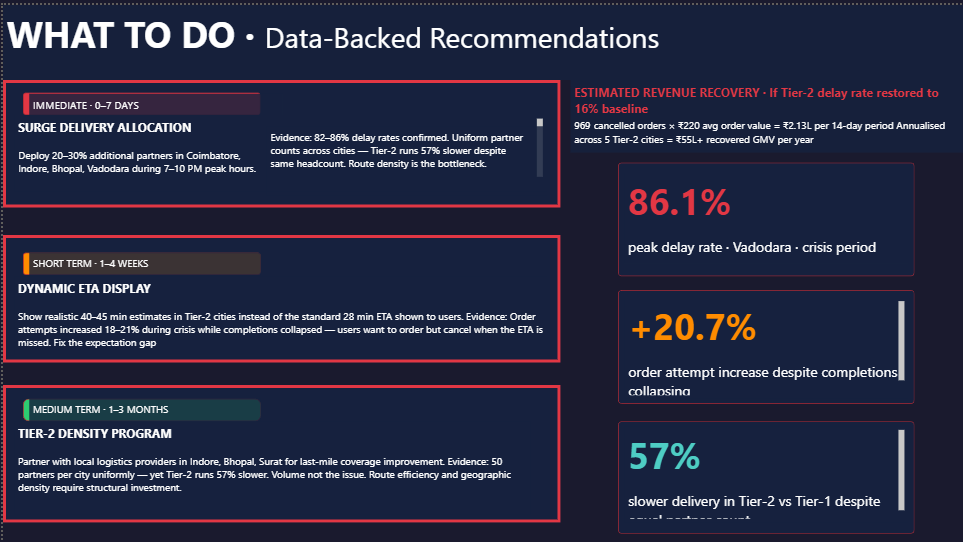

What the dashboard file says about the page in this screenshot:
{"tool":"powerbi","page":{"name":"ACTIONS","canvas":[1280,720],"ordinal":3},"visuals":[{"type":"textbox","box":[0,0,1280,100],"z":0},{"type":"shape","box":[0,100,743.3,170],"z":1000},{"type":"shape","box":[0,506.7,743.3,183.3],"z":2000},{"type":"shape","box":[0,306.7,743.3,170],"z":3000},{"type":"shape","box":[26.7,116.7,316.7,30],"z":4000},{"type":"textbox","box":[35,117.5,337.5,45],"z":5000},{"type":"textbox","box":[15.6,146.7,710,102.2],"z":6000},{"type":"textbox","box":[351.4,161.4,374.3,92.9],"z":7000},{"type":"shape","box":[27.1,330,317.1,30],"z":8000},{"type":"shape","box":[27.1,525.7,317.1,30],"z":9000},{"type":"textbox","box":[35.7,330,308.6,31.4],"z":10000},{"type":"textbox","box":[35.7,525.7,308.6,30],"z":11000},{"type":"textbox","box":[15.7,361.4,710,105.7],"z":12000},{"type":"textbox","box":[15.7,555.7,688.6,124.3],"z":13000},{"type":"textbox","box":[757.1,100,522.9,97.1],"z":13001},{"type":"shape","box":[820,210,395.5,151.8],"z":13002},{"type":"shape","box":[820,380,395.5,151.8],"z":13003},{"type":"shape","box":[820,555.5,395.5,150],"z":13004},{"type":"textbox","box":[828.3,223.3,378.3,121.7],"z":13005},{"type":"textbox","box":[828.3,390,378.3,135],"z":13006},{"type":"textbox","box":[828.3,561.7,378.3,128.3],"z":13007}]}

Visuals, with their boxes in screenshot pixels (x1, y1, x2, y2), scaled from the page's 1280x720 canvas onto the 963x542 screenshot:
textbox: 0:0:962:75
shape: 0:75:559:203
shape: 0:381:559:519
shape: 0:231:559:359
shape: 20:88:258:110
textbox: 26:88:280:122
textbox: 12:110:546:187
textbox: 264:121:546:191
shape: 20:248:259:271
shape: 20:396:259:418
textbox: 27:248:259:272
textbox: 27:396:259:418
textbox: 12:272:546:352
textbox: 12:418:530:512
textbox: 570:75:962:148
shape: 617:158:914:272
shape: 617:286:914:400
shape: 617:418:914:531
textbox: 623:168:908:260
textbox: 623:294:908:395
textbox: 623:423:908:519
